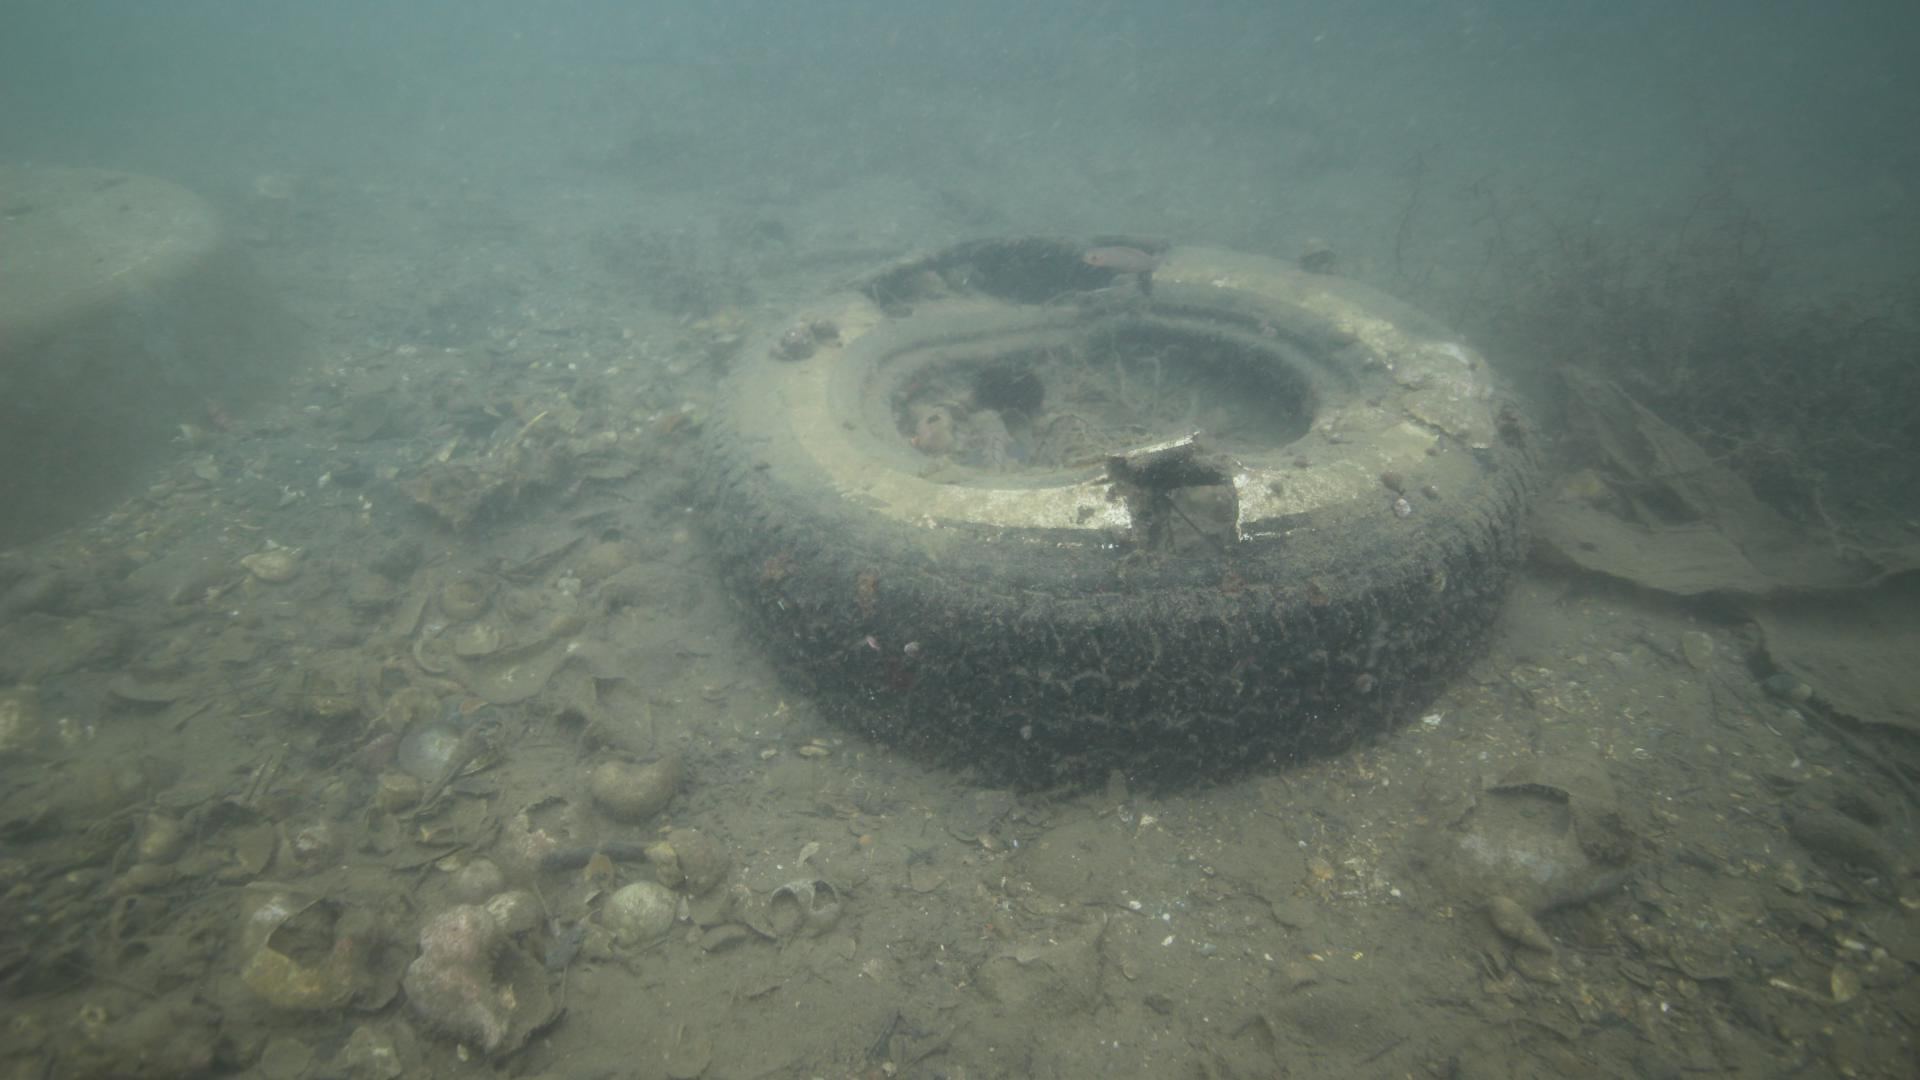tire: (691, 229, 1542, 795)
